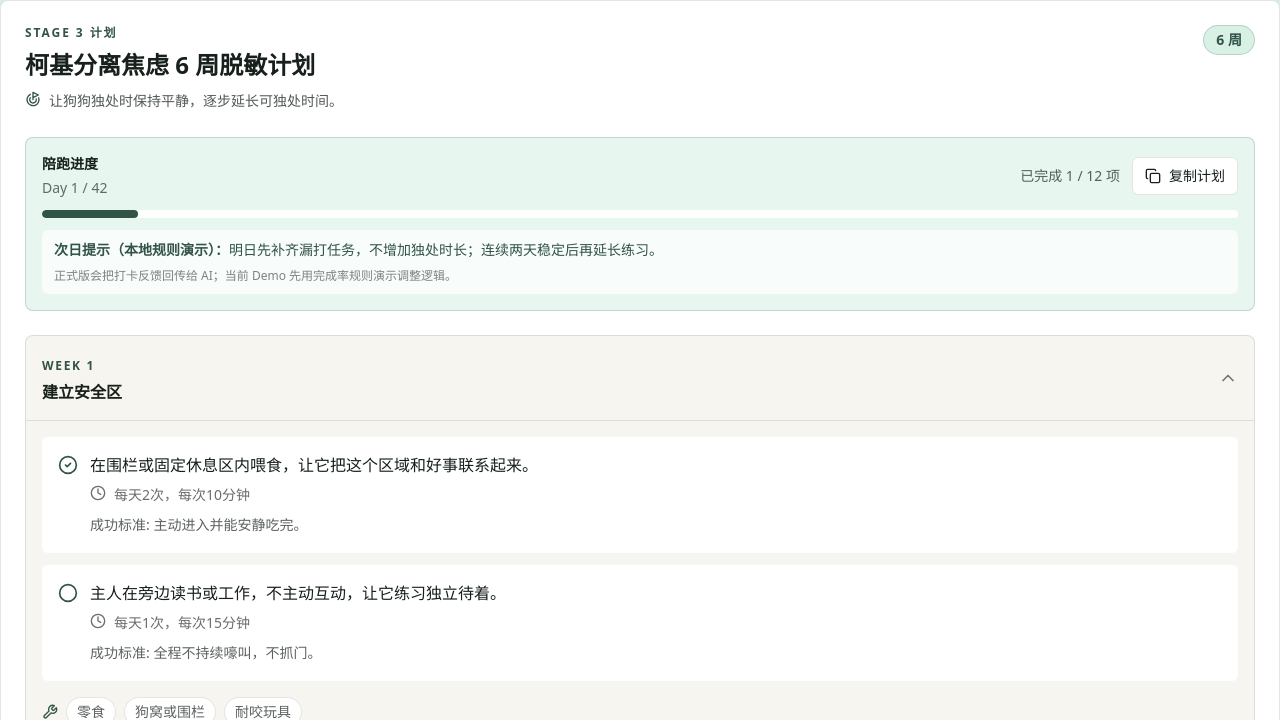
Scenario: TrainingPlan coaching affordances › supports persisted check-ins, progress, rule-based tomorrow adjustment, and copying the plan
Check: the text "Day 1 / 42" is shown, box [42, 178, 107, 198]
Check: the text "已完成 1 / 12 项" is shown, box [1020, 166, 1120, 186]
Click the button named "打卡 Week 1 任务 2".
click(68, 593)  # box [58, 583, 78, 603]
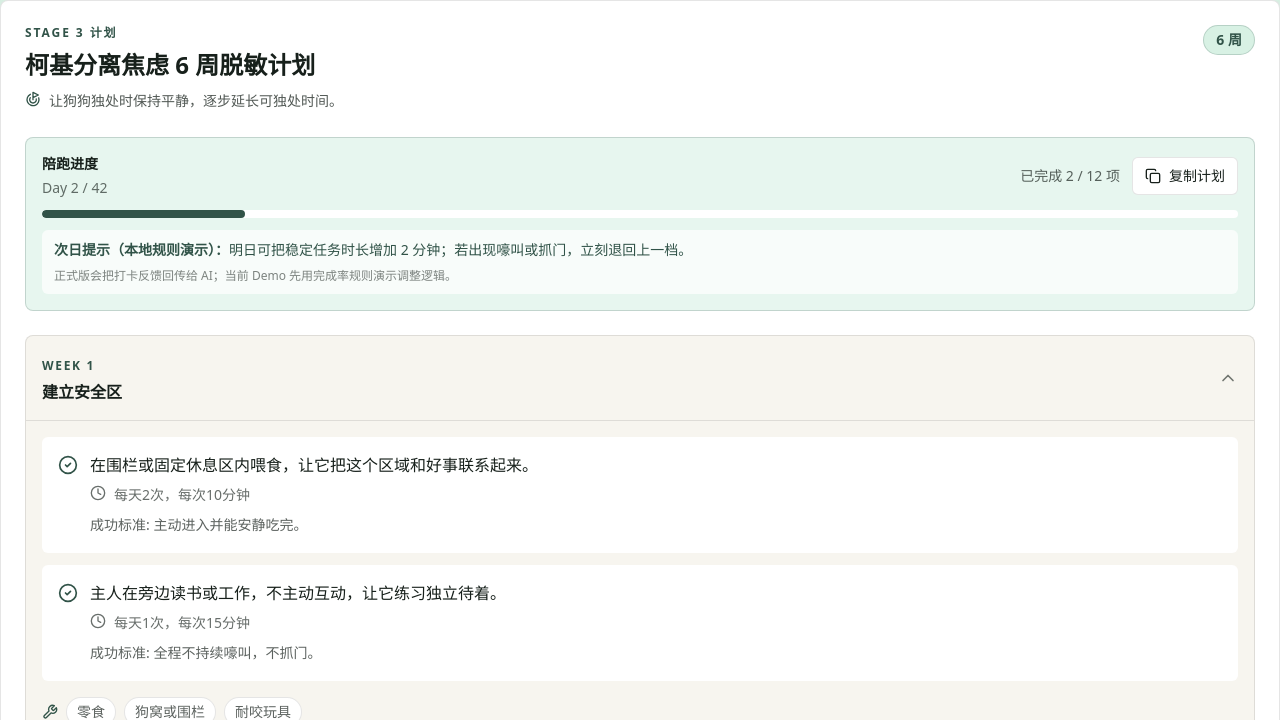
Check: the text "已完成 2 / 12 项" is shown, box [1020, 166, 1120, 186]
Check: the text "次日提示（本地规则演示）：明日可把稳定任务时长增加 2 分钟；若出现嚎叫或抓门，立刻退回上一档。" is shown, box [54, 240, 692, 259]
Click the button "复制计划".
click(1185, 176)  # box [1132, 157, 1238, 195]
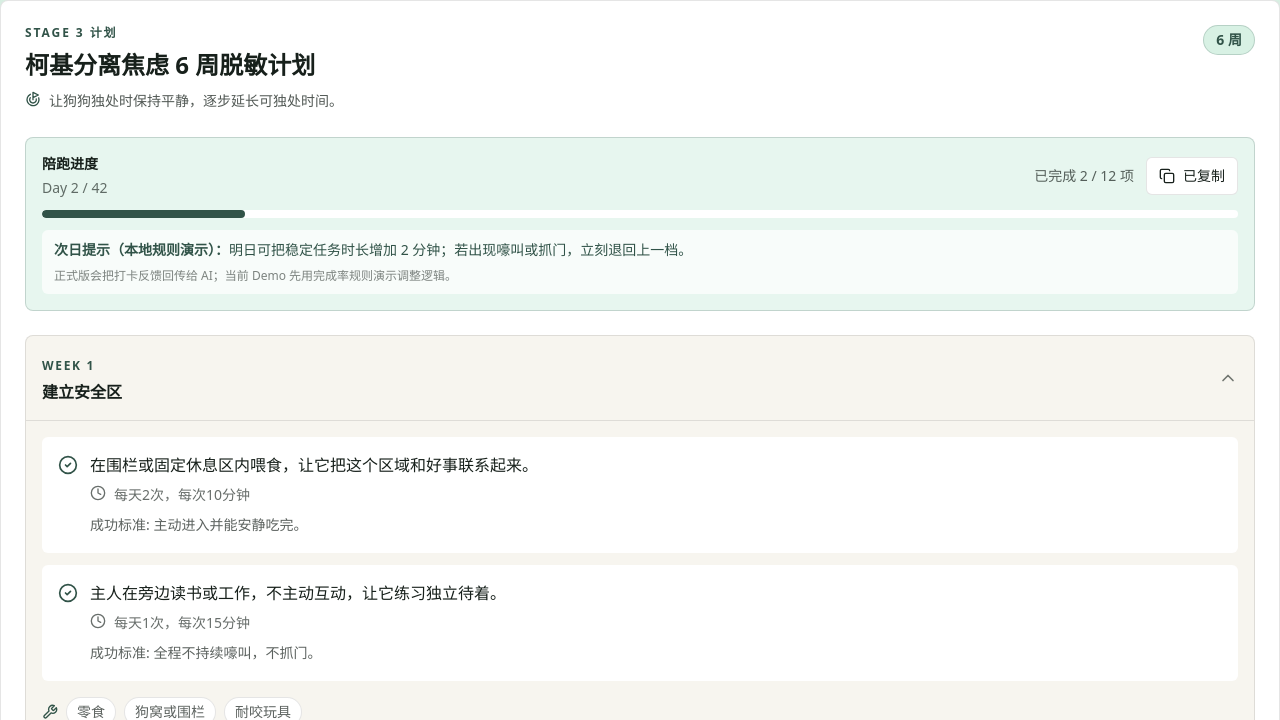
Check: the button "已复制" is shown, box [1146, 157, 1238, 195]
